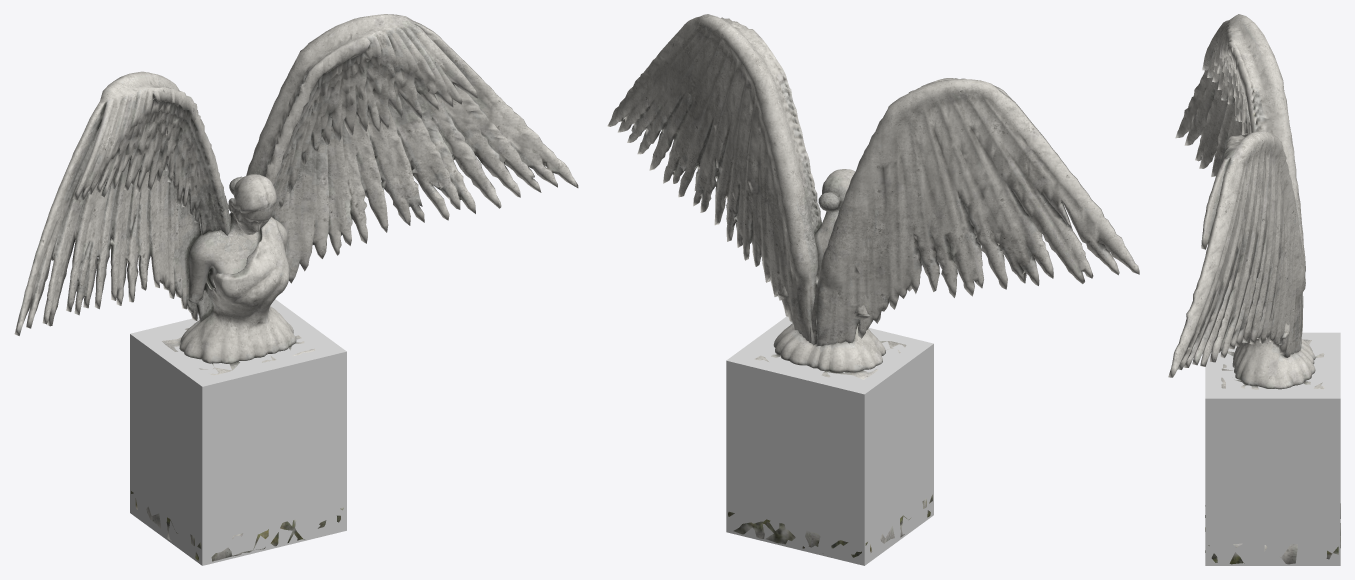
Rendered from statue_angel_hero_bust.glb.
3 renders of one model, left to right at view 1: azimuth 30°, elevation 25°; view 2: azimuth 150°, elevation 25°; view 3: azimuth 270°, elevation 25°, orthographic. The views are drawn at different scales.
Visible parts, largest first — view 1: statue_angel_hero_bust, col_base; view 2: statue_angel_hero_bust, col_base; view 3: statue_angel_hero_bust, col_base.
Part boxes in pixels (<box>): statue_angel_hero_bust: <box>14,14,578,561</box>; col_base: <box>130,299,346,565</box>; statue_angel_hero_bust: <box>607,14,1139,557</box>; col_base: <box>726,316,933,565</box>; statue_angel_hero_bust: <box>1168,14,1340,564</box>; col_base: <box>1205,332,1340,565</box>.
Bounding box in the file's own units: 2.77 × 2.29 × 0.7911.
Materials: 1 (1 with a texture image).
